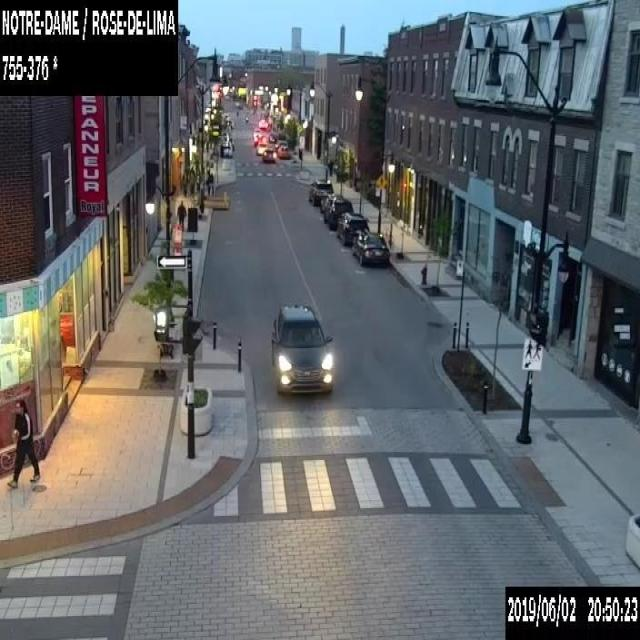pedestrian: (6, 399, 40, 488), (176, 199, 186, 230)
vehicle: (271, 304, 332, 395), (351, 232, 390, 266), (336, 211, 369, 244), (323, 196, 352, 230), (308, 178, 333, 206), (320, 194, 339, 212), (262, 148, 276, 162), (221, 140, 231, 157), (277, 145, 290, 158), (253, 133, 266, 145), (274, 140, 288, 149), (224, 136, 233, 150), (256, 141, 266, 153), (252, 128, 262, 137), (258, 118, 267, 127), (268, 131, 276, 141)
